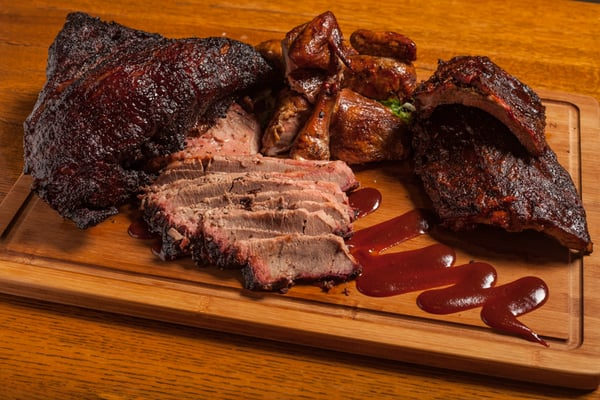curry: (12, 0, 598, 380)
